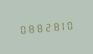eight: (25, 21, 32, 35), (49, 19, 56, 33), (33, 21, 40, 34)
one: (57, 19, 64, 32)
two: (41, 20, 48, 33)
zero: (17, 22, 24, 35), (65, 18, 72, 31)
